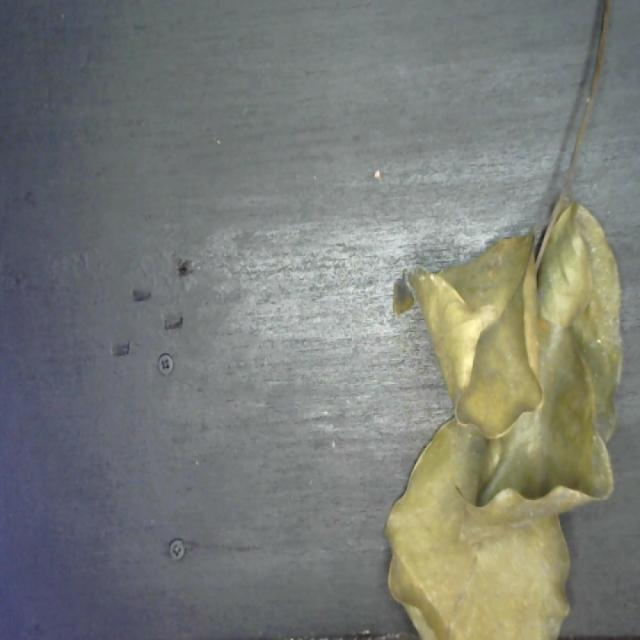biodegradable: (378, 192, 627, 640)
